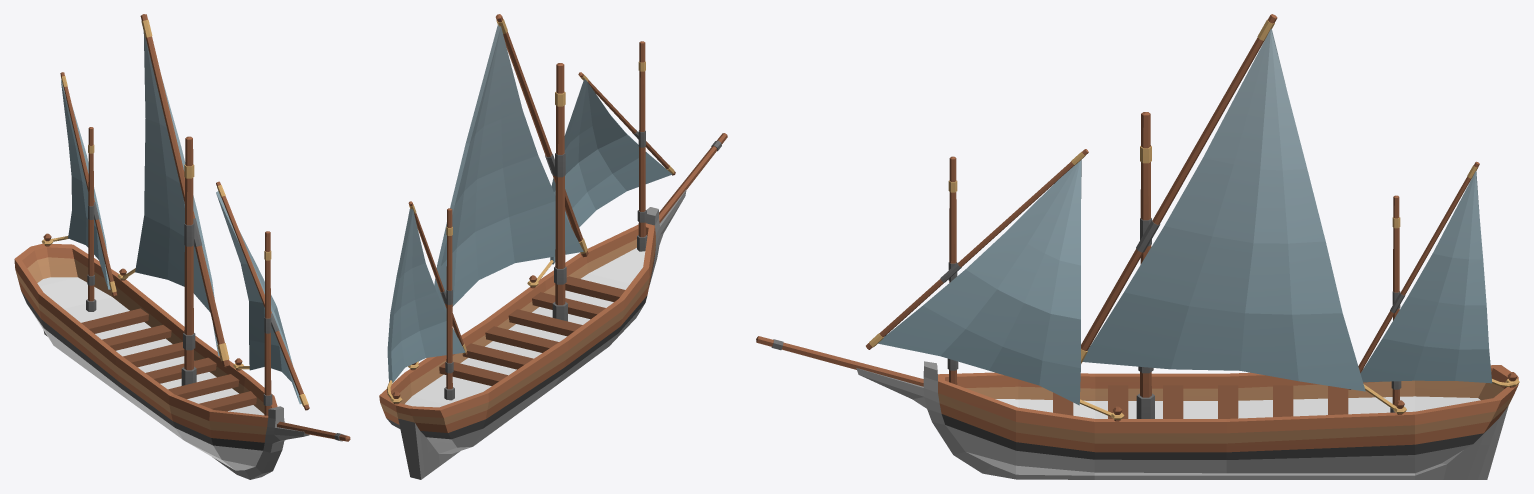
The model's file is ship-small-5.glb.
3 renders of one model, left to right at view 1: azimuth 30°, elevation 25°; view 2: azimuth 150°, elevation 25°; view 3: azimuth 270°, elevation 25°, orthographic. The views are drawn at different scales.
Visible parts, largest first — view 1: ship small 5; view 2: ship small 5; view 3: ship small 5.
Boxes of the visible parts, box(x1,y1,x2,y2) form: ship small 5: box(14, 14, 350, 479); ship small 5: box(379, 14, 727, 479); ship small 5: box(756, 14, 1519, 479).
Bounding box in the file's own units: 4.71 × 20.02 × 29.71.
Materials: 1 (1 with a texture image).
